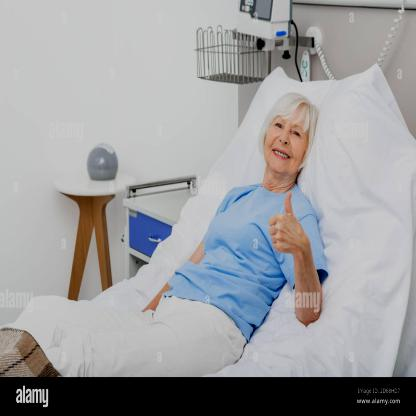Thumbs up: (268, 196, 301, 260)
